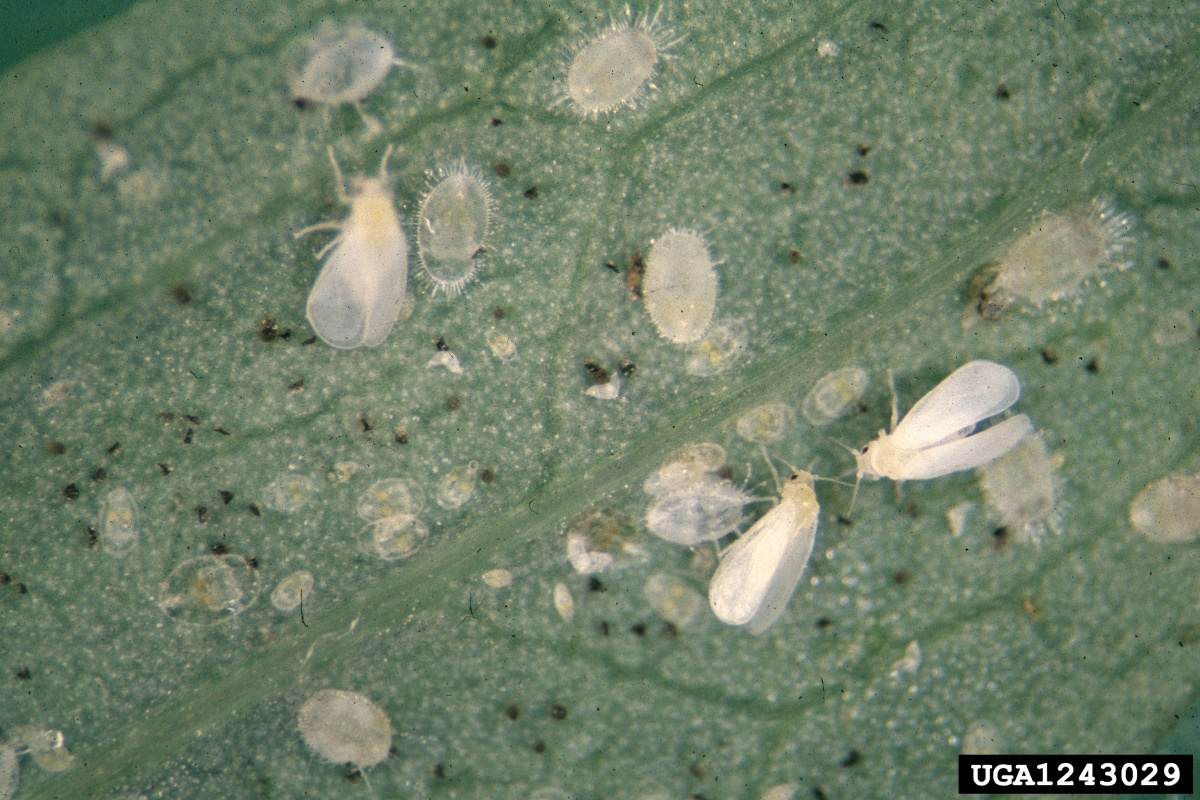Tobacco Whitefly: (847, 327, 1049, 522), (291, 169, 436, 388), (717, 459, 820, 675)
